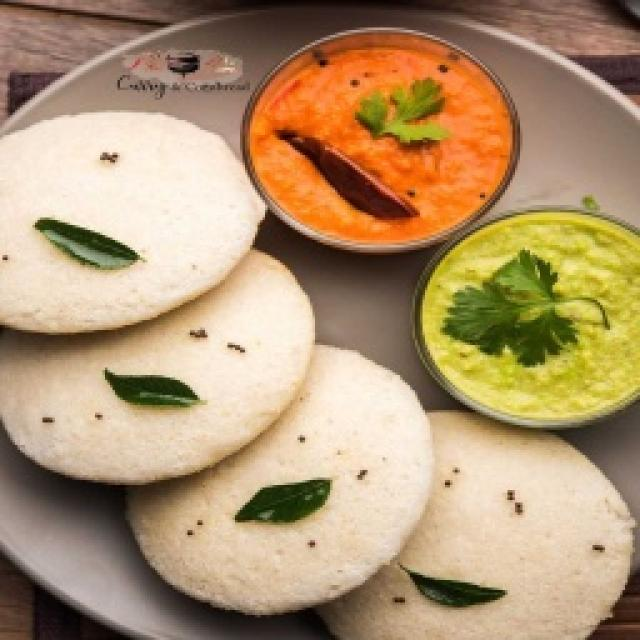idli: (128, 345, 432, 614), (0, 250, 314, 484), (318, 413, 632, 639), (0, 113, 264, 332)
